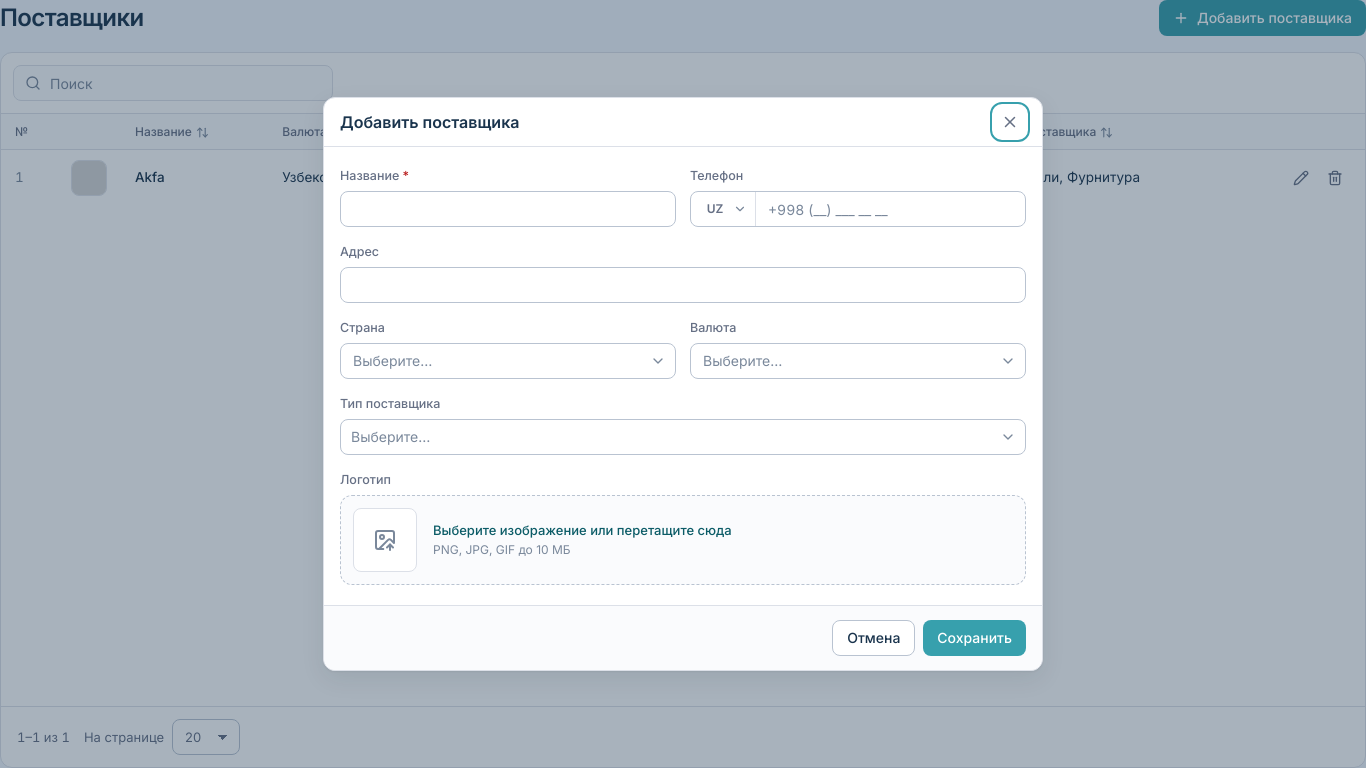
Test: Suppliers › rejects an incomplete phone
In the field labelled "Название *": point(508, 209) [340,191,676,227], type "Rehau"
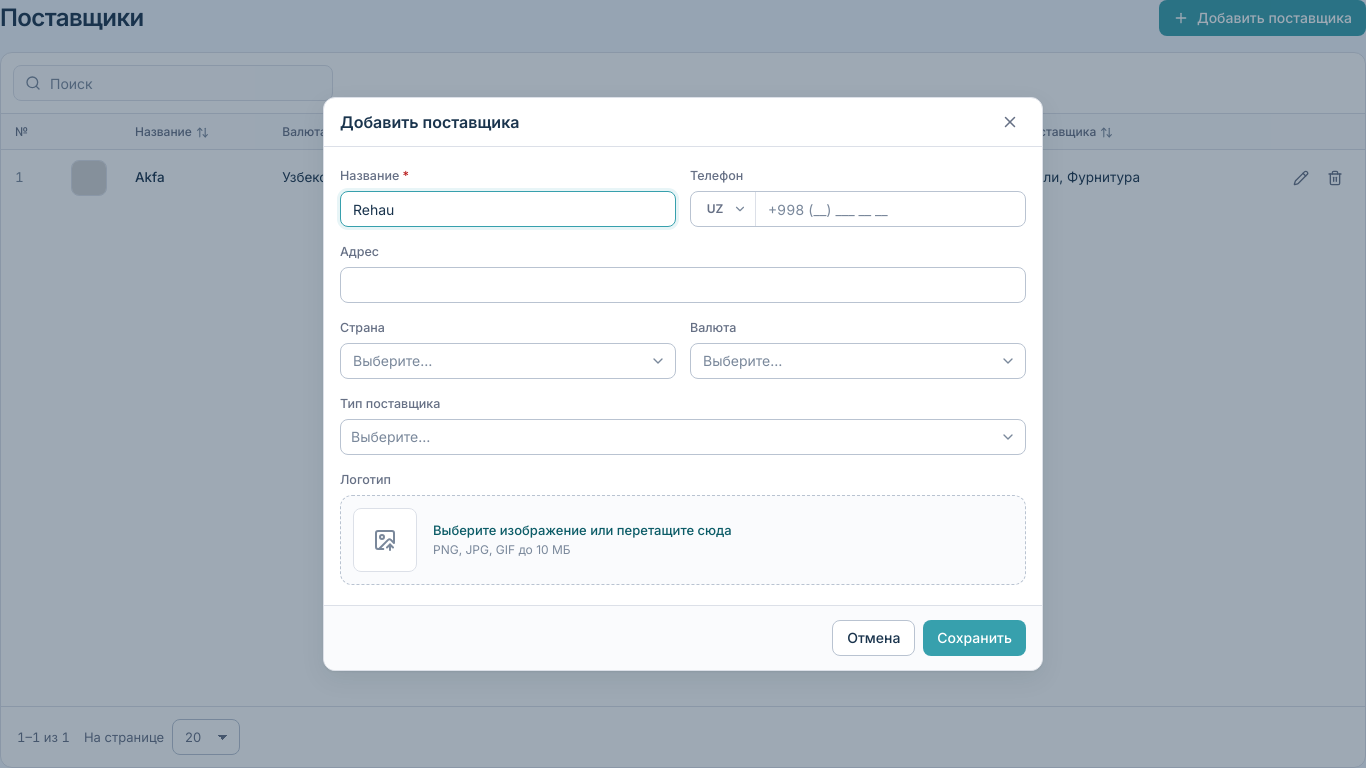
In the field labelled "Телефон": point(890, 209) [756,192,1025,226], type "9012"
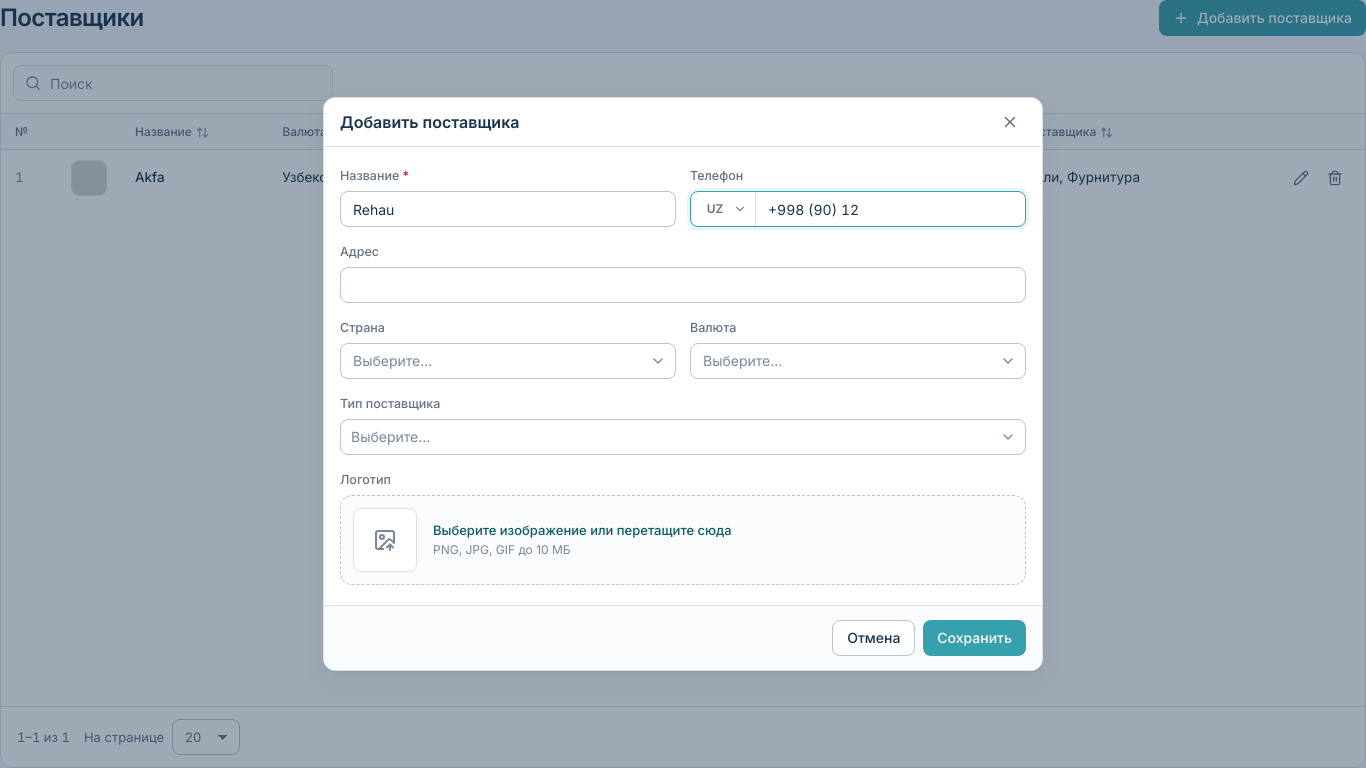
Click the button "Сохранить": point(975, 638) [923,620,1026,656]
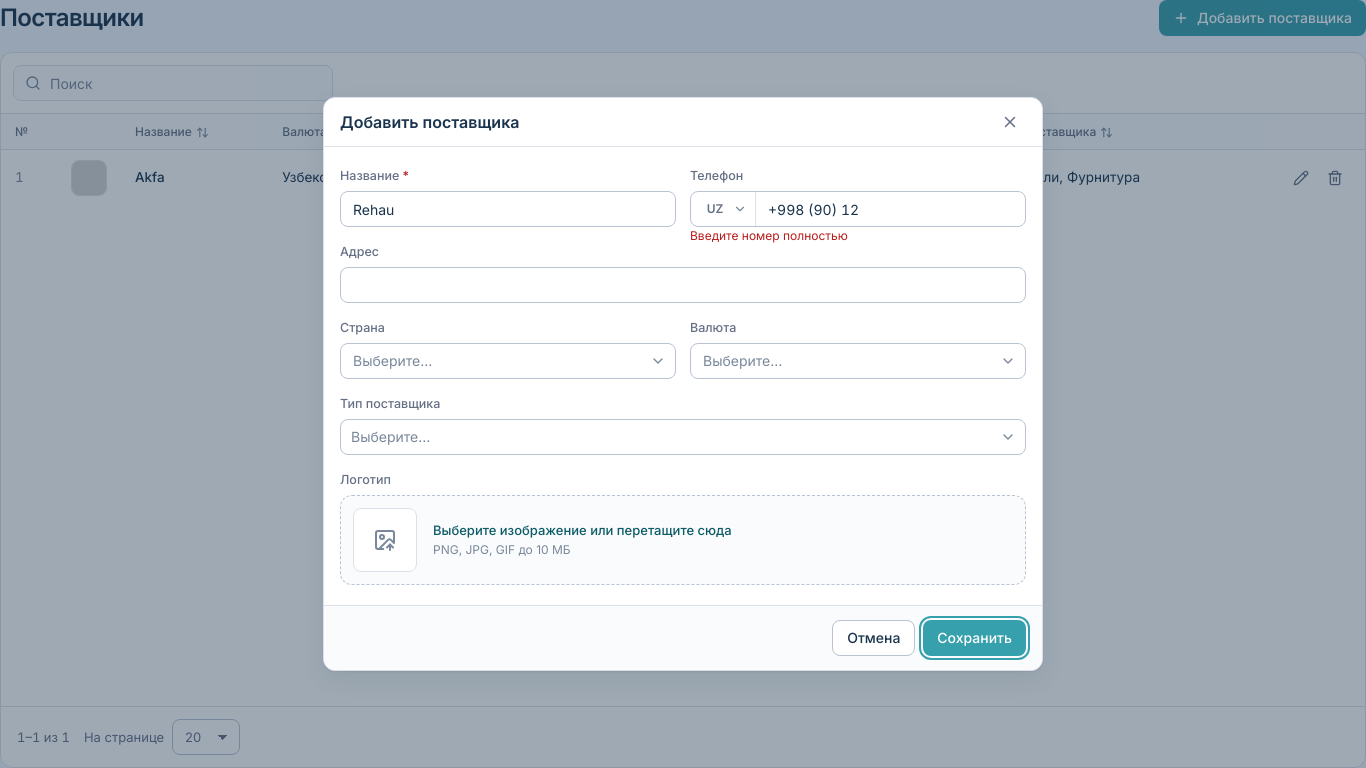
Expected: the text "Введите номер полностью" is shown, [690,229,848,243]
